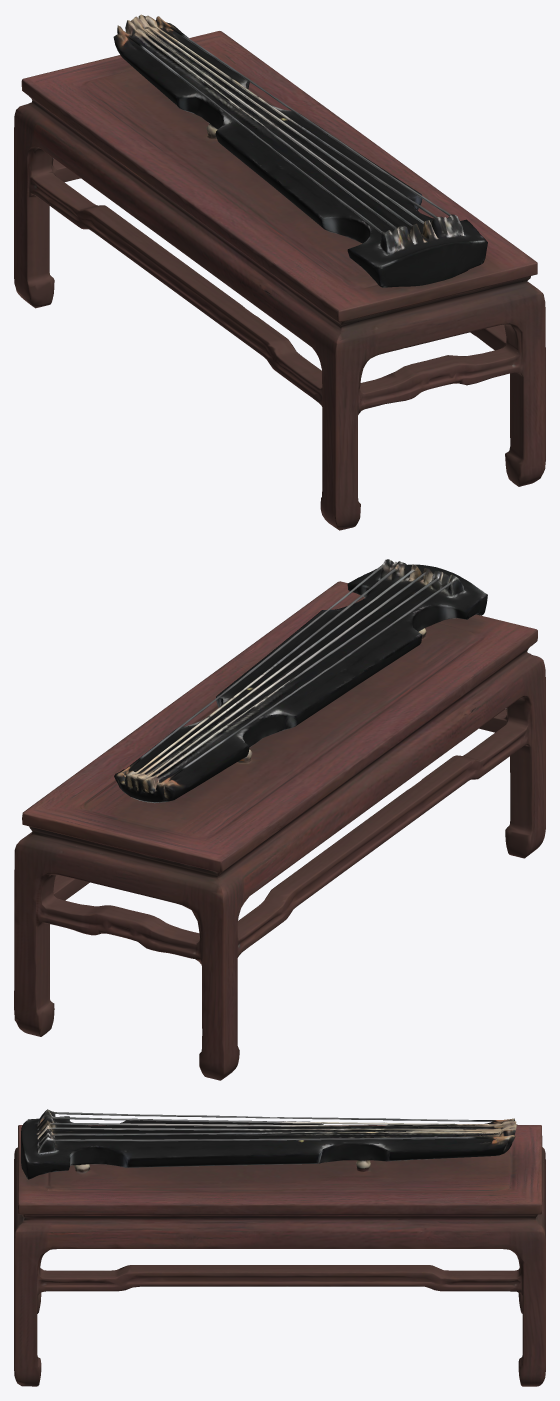
The model's file is f_qinzhuo.glb.
The picture shows the model from 3 angles, top to bottom: view 1: azimuth 30°, elevation 25°; view 2: azimuth 150°, elevation 25°; view 3: azimuth 270°, elevation 25°; orthographic projection. The views are drawn at different scales.
Visible parts, largest first — view 1: tripo_node_d24c18c2-a5eb-4aff-8214-b937504651f3; view 2: tripo_node_d24c18c2-a5eb-4aff-8214-b937504651f3; view 3: tripo_node_d24c18c2-a5eb-4aff-8214-b937504651f3.
Part boxes in pixels (x1,y1,x2,y2): tripo_node_d24c18c2-a5eb-4aff-8214-b937504651f3: (14, 14, 545, 530); tripo_node_d24c18c2-a5eb-4aff-8214-b937504651f3: (14, 559, 545, 1080); tripo_node_d24c18c2-a5eb-4aff-8214-b937504651f3: (14, 1109, 545, 1386).
Bounding box in the file's own units: 0.3775 × 0.4676 × 0.9999.
1 material, 1 textured.
